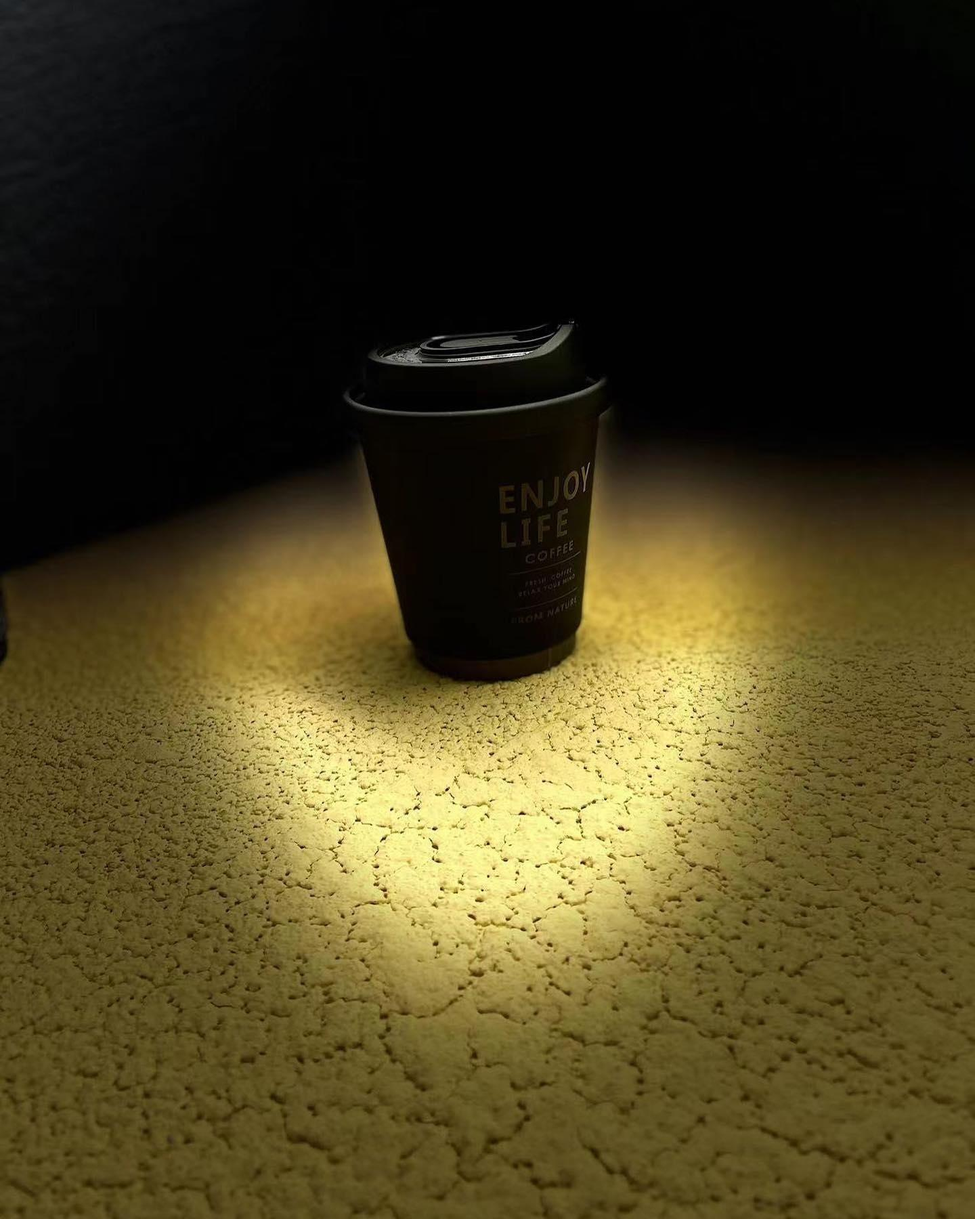cup-disposable: (339, 310, 611, 691)
